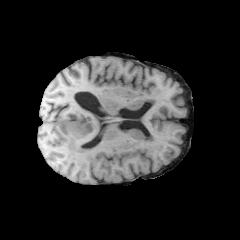glioma: (59, 114, 153, 170)
